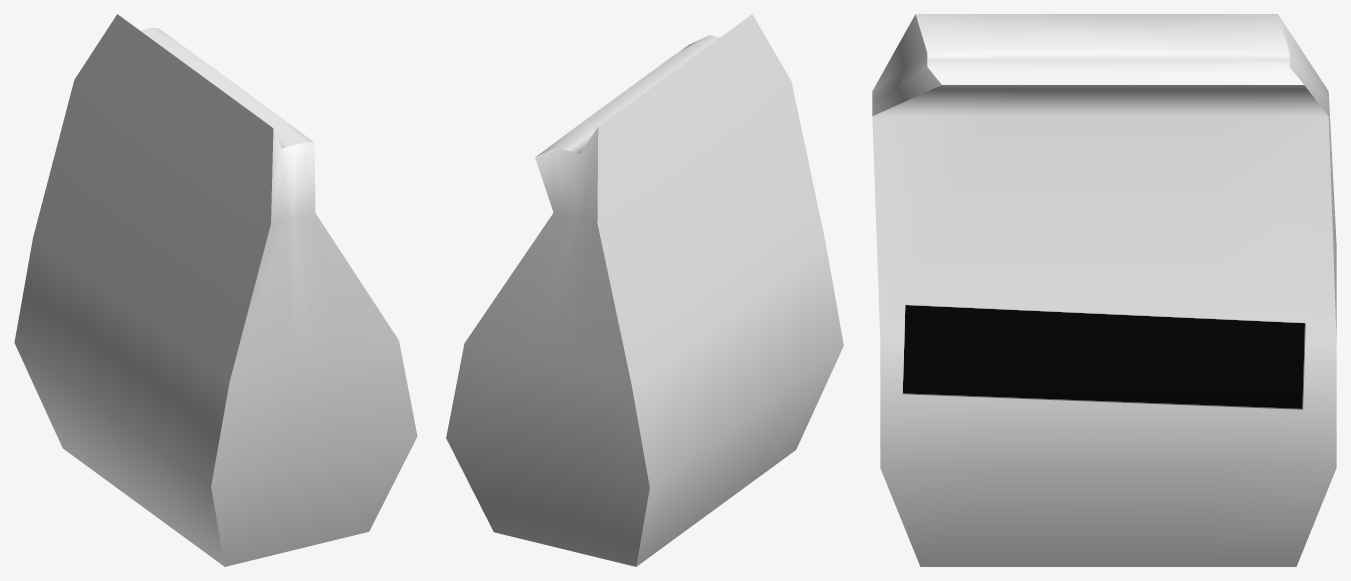
Rendered from Catfood.fbx.
The picture shows the model from 3 angles, left to right: view 1: azimuth 30°, elevation 25°; view 2: azimuth 150°, elevation 25°; view 3: azimuth 270°, elevation 25°; orthographic projection. The views are drawn at different scales.
Visible parts, largest first — view 1: pCube1; view 2: pCube1; view 3: pCube1.
Boxes of the visible parts, x1=… form: pCube1: x1=14, y1=14, x2=417, y2=566; pCube1: x1=446, y1=14, x2=843, y2=566; pCube1: x1=872, y1=14, x2=1336, y2=566.
Bounding box in the file's own units: 1.43 × 2.84 × 2.4.
